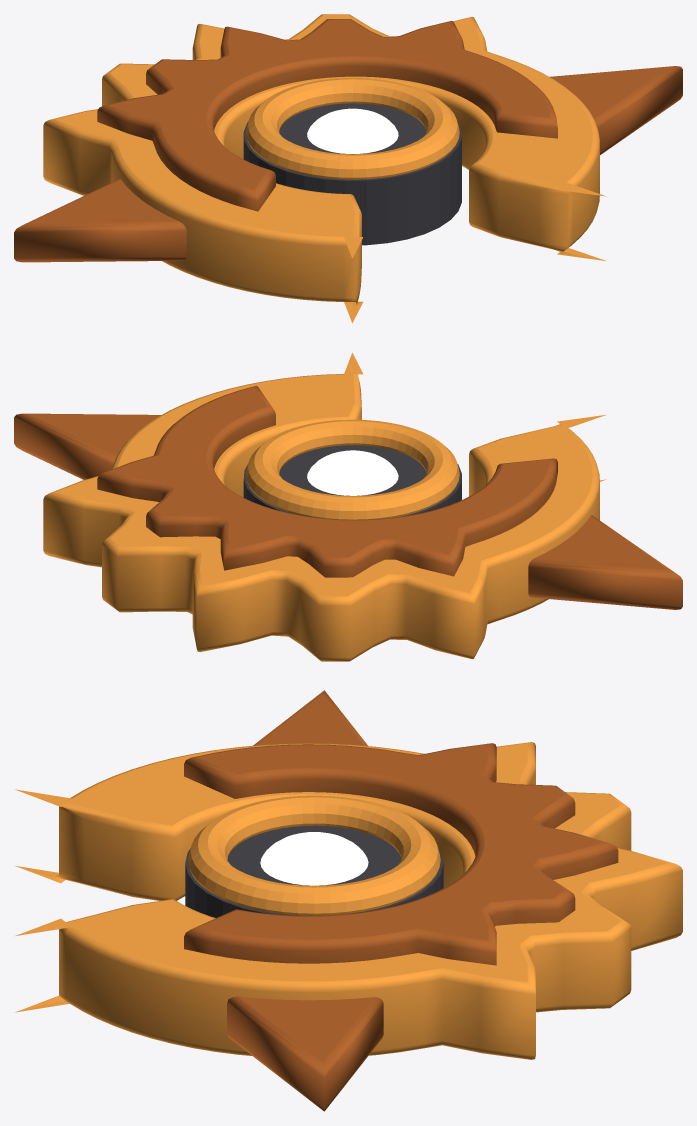
File: nave_arancione.glb
3 views of the same model, one above another, from view 1: azimuth 30°, elevation 25°; view 2: azimuth 150°, elevation 25°; view 3: azimuth 270°, elevation 25° (orthographic). The views are drawn at different scales.
Parts seen in each view (by area): view 1: nave; view 2: nave; view 3: nave.
Part boxes in pixels (x1=…): nave: x1=14, y1=14, x2=682, y2=322; nave: x1=14, y1=353, x2=682, y2=661; nave: x1=15, y1=690, x2=682, y2=1111.
Size of the model in its own units: 1.62 by 0.195 by 1.19.
